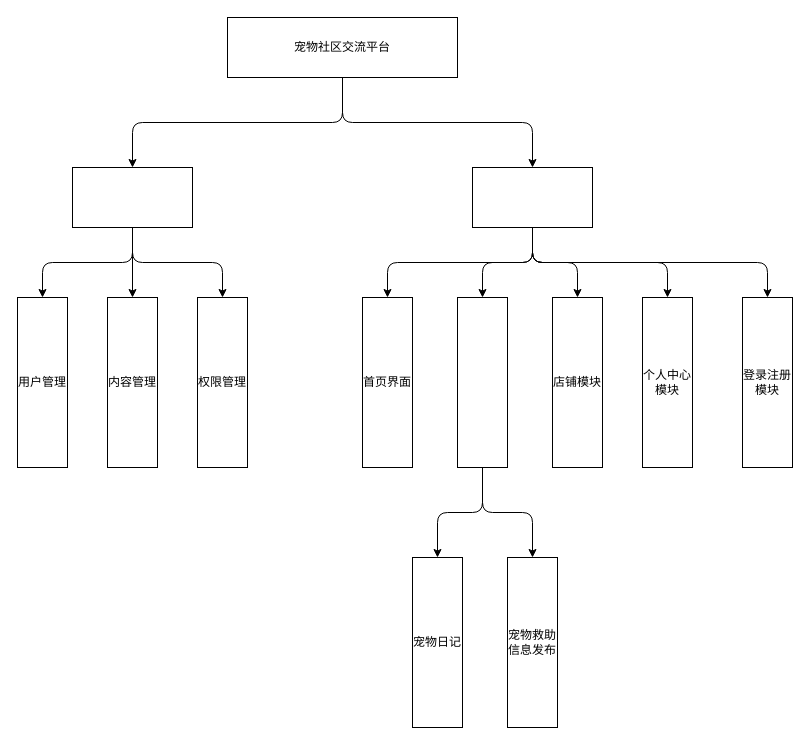
Image size: 810x745. Some labels were removed from this diagram. Each missing label, with the centre of its shape:
用户端: [532,197]
社区模块: [482,382]
系统后后台管理: [132,197]
